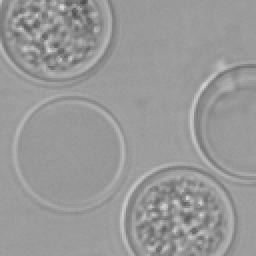picoshell: (10, 94, 124, 212), (118, 162, 236, 256), (188, 64, 256, 183)
